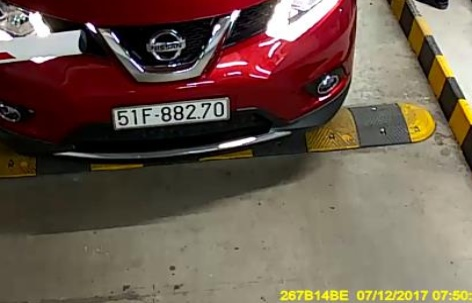plate: (114, 93, 230, 131)
